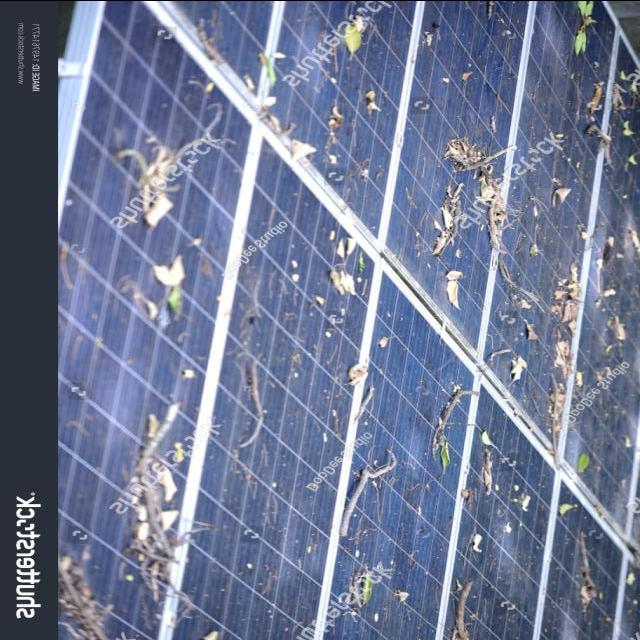soiled: (45, 0, 639, 639)
